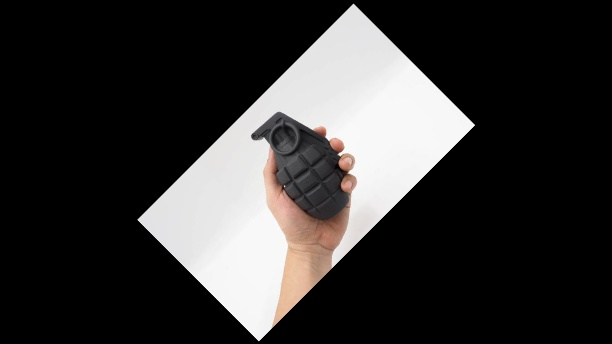e1: (249, 109, 355, 222)
